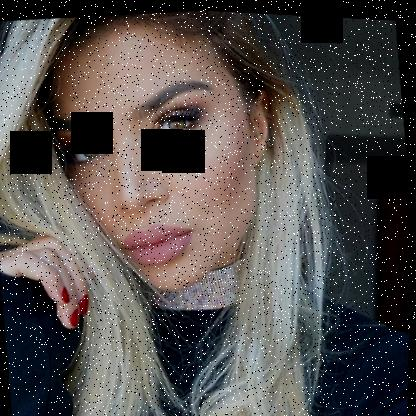Female: (42, 3, 288, 302)
